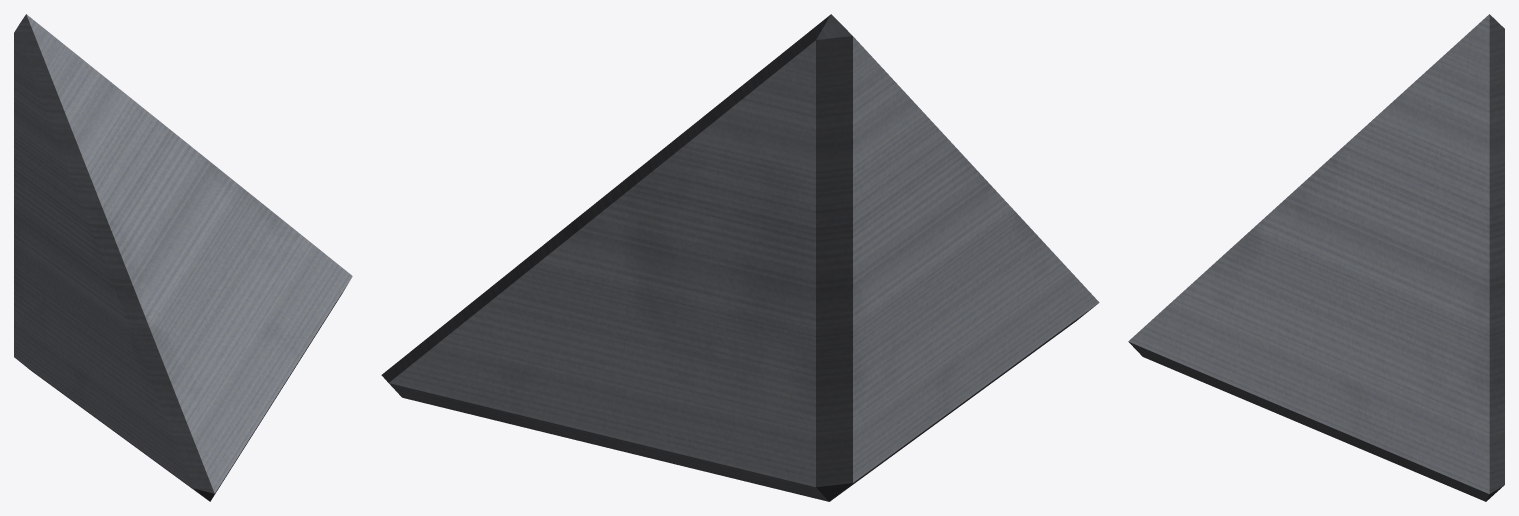
Rendered from R4B_Tetra_LOD1.glb.
The picture shows the model from 3 angles, left to right: view 1: azimuth 30°, elevation 25°; view 2: azimuth 150°, elevation 25°; view 3: azimuth 270°, elevation 25°; orthographic projection. The views are drawn at different scales.
Visible parts, largest first — view 1: R4B_Tetra_LOD1; view 2: R4B_Tetra_LOD1; view 3: R4B_Tetra_LOD1.
Part boxes in pixels (box(x1,y1,x2,y2)): R4B_Tetra_LOD1: box(14, 14, 352, 501); R4B_Tetra_LOD1: box(381, 14, 1099, 501); R4B_Tetra_LOD1: box(1128, 14, 1504, 501).
Bounding box in the file's own units: 0.4808 × 0.4808 × 0.4808.
2 materials, 2 textured.
